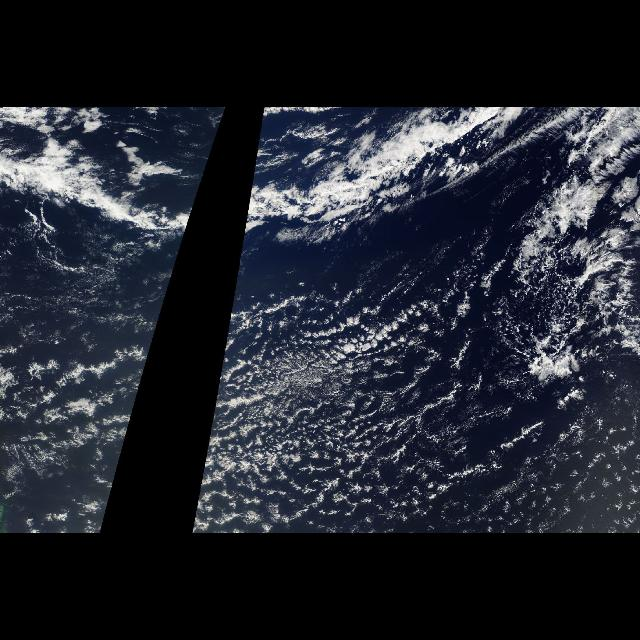Fish: (239, 127, 529, 247), (34, 127, 222, 247)
Gravel: (508, 192, 640, 384)
Sugar: (196, 301, 522, 534), (0, 241, 160, 333)
